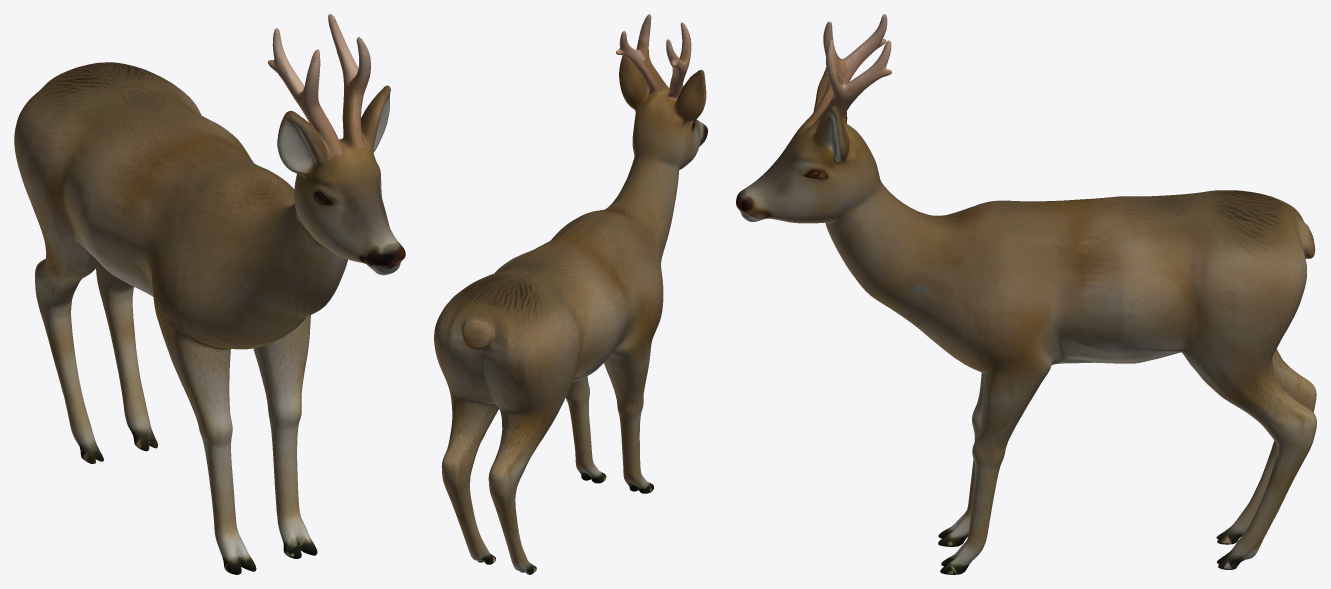
The model's file is doedeer.glb.
The picture shows the model from 3 angles, left to right: view 1: azimuth 30°, elevation 25°; view 2: azimuth 150°, elevation 25°; view 3: azimuth 270°, elevation 25°; orthographic projection. The views are drawn at different scales.
Visible parts, largest first — view 1: tripo_node_05dba1f3-ef84-47b5-8650-f79c3bd24e85; view 2: tripo_node_05dba1f3-ef84-47b5-8650-f79c3bd24e85; view 3: tripo_node_05dba1f3-ef84-47b5-8650-f79c3bd24e85.
Boxes of the visible parts, x1,y1,x2,y2 form: tripo_node_05dba1f3-ef84-47b5-8650-f79c3bd24e85: [14, 14, 405, 574]; tripo_node_05dba1f3-ef84-47b5-8650-f79c3bd24e85: [434, 14, 707, 574]; tripo_node_05dba1f3-ef84-47b5-8650-f79c3bd24e85: [736, 14, 1316, 574].
Size of the model in its own units: 0.2911 by 0.9454 by 0.942.
1 material, 1 textured.
